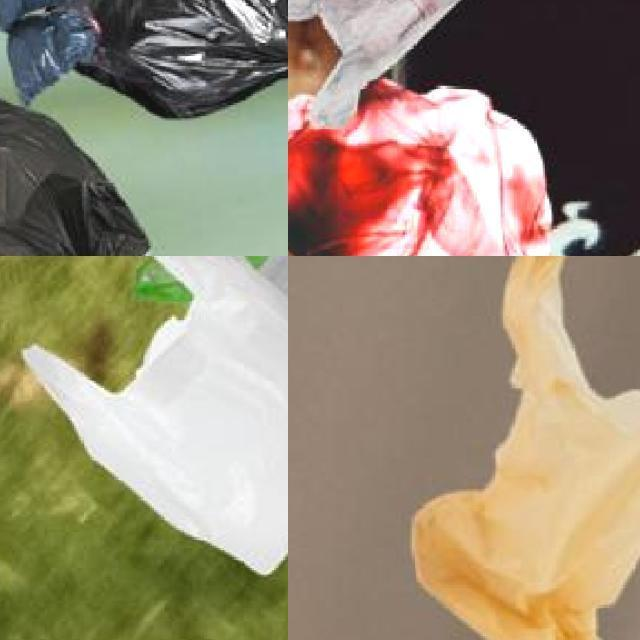waste: (405, 256, 640, 640), (17, 256, 288, 578), (132, 256, 288, 505), (68, 0, 288, 112), (0, 93, 150, 256), (288, 0, 480, 117)
